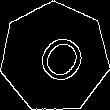O_SW: (23, 24, 87, 91)
